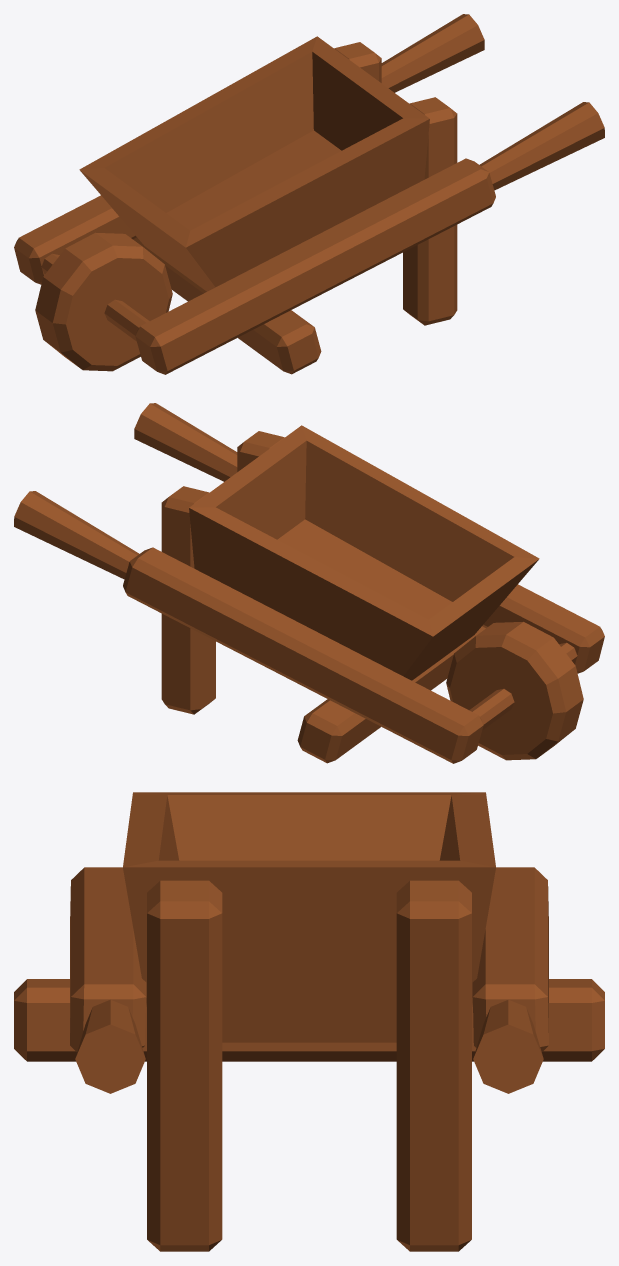
The model's file is FoodCollector_Greybox.fbx.
3 views of the same model, one above another, from view 1: azimuth 30°, elevation 25°; view 2: azimuth 150°, elevation 25°; view 3: azimuth 270°, elevation 25° (orthographic). The views are drawn at different scales.
Visible parts, largest first — view 1: FoodCollection; view 2: FoodCollection; view 3: FoodCollection.
Boxes of the visible parts, x1,y1,x2,y2 form: FoodCollection: (14, 14, 604, 374); FoodCollection: (14, 403, 604, 763); FoodCollection: (14, 792, 604, 1251).
Bounding box in the file's own units: 335 × 144 × 210.
